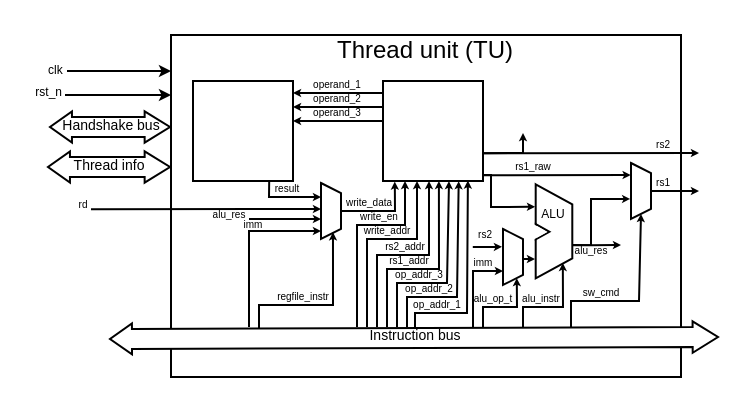
The diagram is 752 pixels wide and 412 high, and some of its shapes have lost their labels. The centre of each missing label's shape, as x and y in pixels:
FPU: pixel 242 130
Regfile: pixel 432 130
